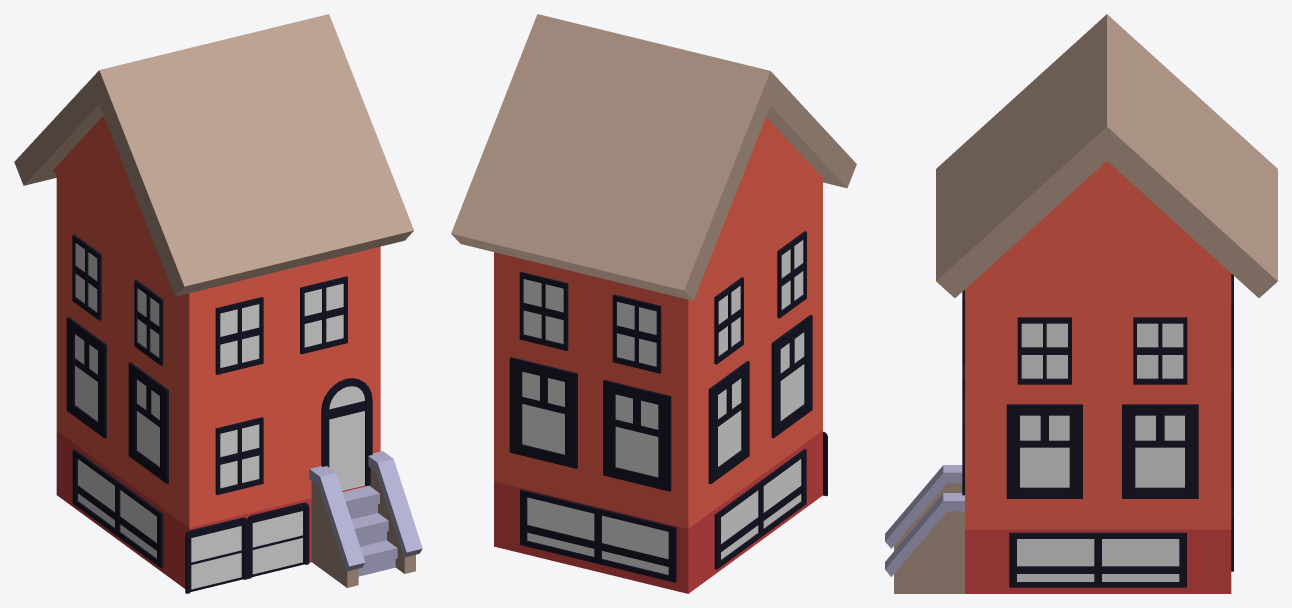
The model's file is radhus3.fbx.
3 renders of one model, left to right at view 1: azimuth 30°, elevation 25°; view 2: azimuth 150°, elevation 25°; view 3: azimuth 270°, elevation 25°, orthographic.
Visible parts, largest first — view 1: roof_half (×2), block, window_wide (×5), stairs_small, window_detail (×2), garage_wide (×2), window_width, door_rounded; view 2: roof_half (×2), block, window_detail (×4), window_width (×2), window_wide (×4); view 3: roof_half (×2), block, window_detail (×2), window_width, stairs_small, window_wide (×2).
Part boxes in pixels (left/top/right/bottom): roof_half (×2): left=14, top=14, right=413, bottom=296; block: left=56, top=175, right=380, bottom=588; window_wide (×5): left=72, top=234, right=347, bottom=495; stairs_small: left=309, top=451, right=422, bottom=587; window_detail (×2): left=66, top=317, right=168, bottom=483; garage_wide (×2): left=185, top=502, right=309, bottom=593; window_width: left=72, top=449, right=163, bottom=567; door_rounded: left=321, top=378, right=372, bottom=490; roof_half (×2): left=451, top=14, right=856, bottom=300; block: left=494, top=173, right=822, bottom=593; window_detail (×4): left=509, top=315, right=812, bottom=491; window_width (×2): left=520, top=449, right=806, bottom=582; window_wide (×4): left=519, top=231, right=806, bottom=373; roof_half (×2): left=936, top=14, right=1277, bottom=297; block: left=965, top=272, right=1231, bottom=593; window_detail (×2): left=1006, top=404, right=1198, bottom=498; window_width: left=1009, top=532, right=1186, bottom=587; stairs_small: left=885, top=465, right=964, bottom=593; window_wide (×2): left=1017, top=317, right=1187, bottom=384.
Bounding box in the file's own units: 30 × 59.24 × 44.23.
